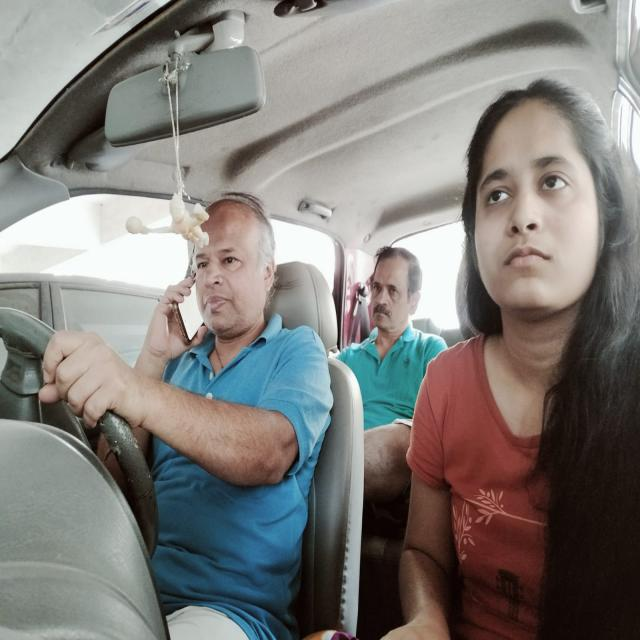mobile: (170, 254, 217, 358)
person: (456, 64, 625, 352), (160, 183, 285, 362), (354, 230, 434, 353)
